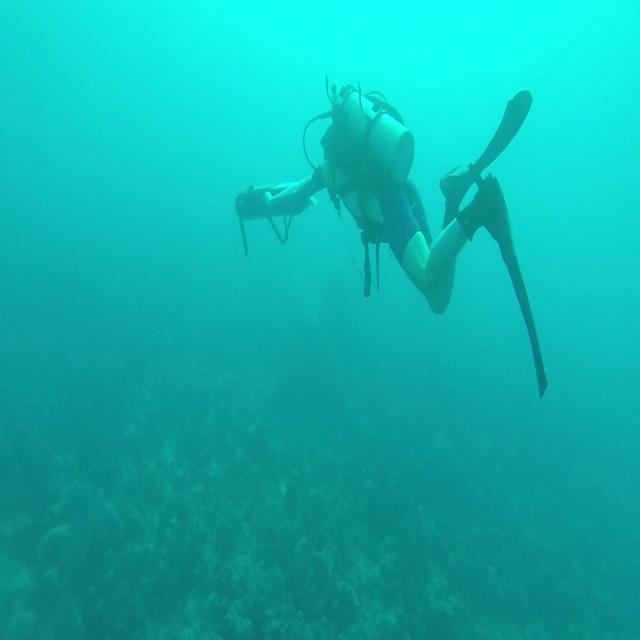human: (235, 73, 548, 400)
